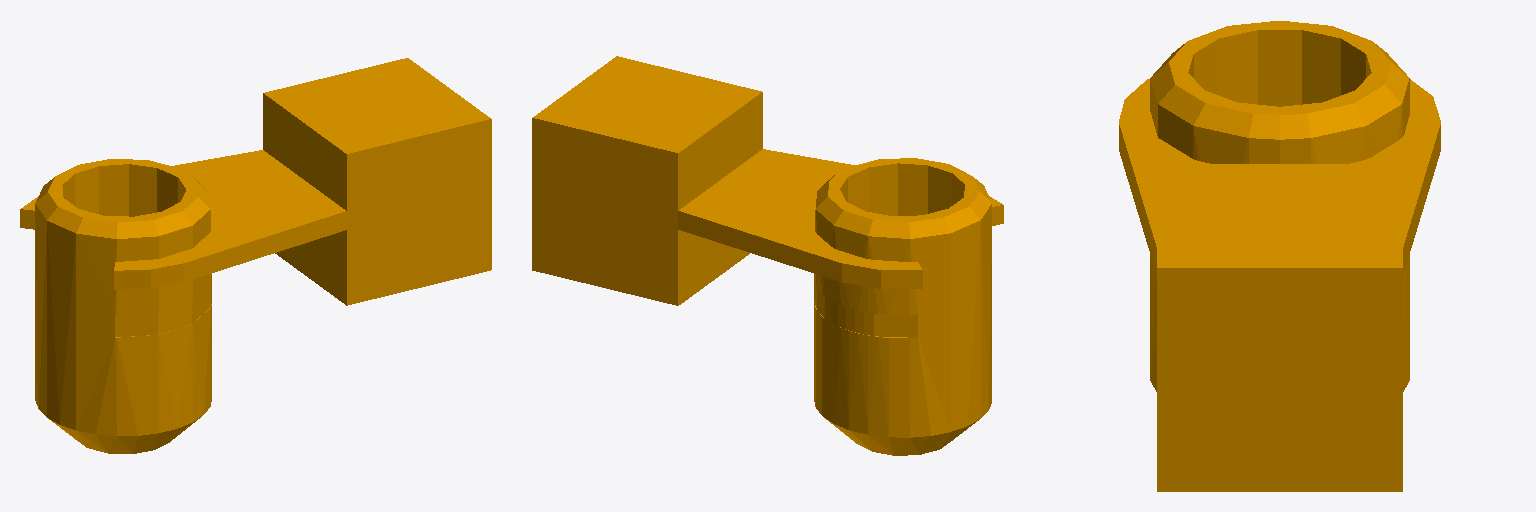
robot.urdf — your_robot_name:
<robot name="your_robot_name">
    <link name="base_link">
        <visual>
            <origin rpy="0 0 0" xyz="0 0 0" />
            <geometry>
                <mesh filename="stl/cup.stl" scale="0.001 0.001 0.001" />
            </geometry>
        </visual>
        <!-- <collision>
            <origin rpy="0 0 0" xyz="0 0 0" />
            <geometry>
                <mesh filename="stl/assemble_p1.stl" scale="0.001 0.001 0.001" />
            </geometry>
        </collision> -->
        <inertial>
            <origin rpy="0 0 0" xyz="0 0 0" />
            <mass value="0" />
            <inertia ixx="1" ixy="0" ixz="0" iyy="1" iyz="0" izz="1" />
        </inertial>
    </link>
</robot>

--- What the picture shows (computed from the rendered views, not written in the file) ---
The picture shows the robot from 3 angles, left to right: view 1: azimuth 30°, elevation 25°; view 2: azimuth 150°, elevation 25°; view 3: azimuth 270°, elevation 25°; orthographic projection.
Model your_robot_name with 1 links and 0 joints (none), rooted at base_link, posed every joint at zero.
Links seen in each view (by area): view 1: base_link; view 2: base_link; view 3: base_link.
Link boxes in pixels (x1,y1,x2,y2): base_link: (20,58,491,453); base_link: (532,56,1003,455); base_link: (1119,21,1440,491).
Size in the robot's own frame: 0.1112 by 0.0524 by 0.07 metres.
Meshes: 1 distinct files referenced, 1 mesh visuals loaded (1 binary STL).